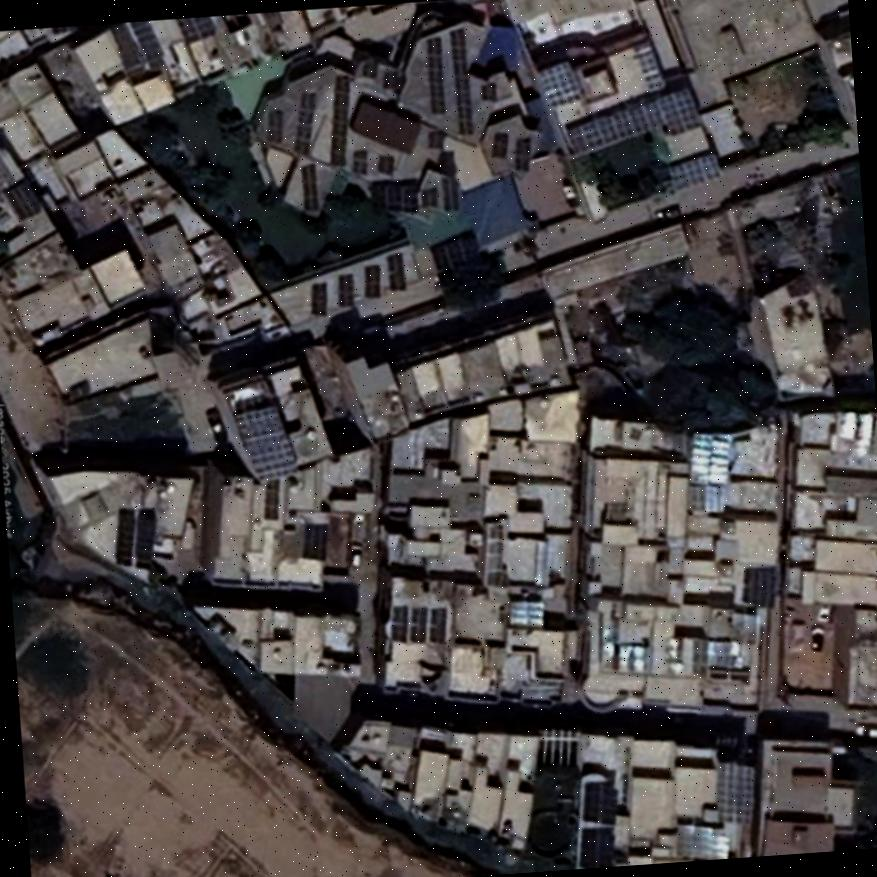Solarpanel: (569, 89, 701, 162), (235, 404, 298, 476), (716, 764, 756, 823), (450, 28, 471, 134), (540, 59, 585, 106), (429, 233, 478, 274), (669, 153, 719, 190), (676, 822, 728, 857), (330, 74, 349, 164), (634, 40, 664, 93), (582, 782, 615, 825), (579, 826, 614, 866), (369, 181, 415, 210), (427, 38, 444, 113), (295, 90, 314, 153), (408, 607, 427, 641), (302, 167, 316, 211), (311, 281, 328, 317), (427, 607, 444, 642), (390, 606, 406, 642), (512, 138, 529, 171), (441, 178, 458, 208), (364, 266, 380, 297), (338, 273, 353, 305), (389, 254, 403, 288), (266, 109, 280, 142), (490, 134, 508, 157), (379, 154, 395, 174)
